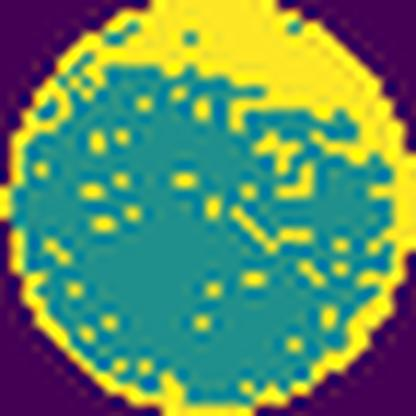Edge-Loc: (90, 0, 415, 213)
